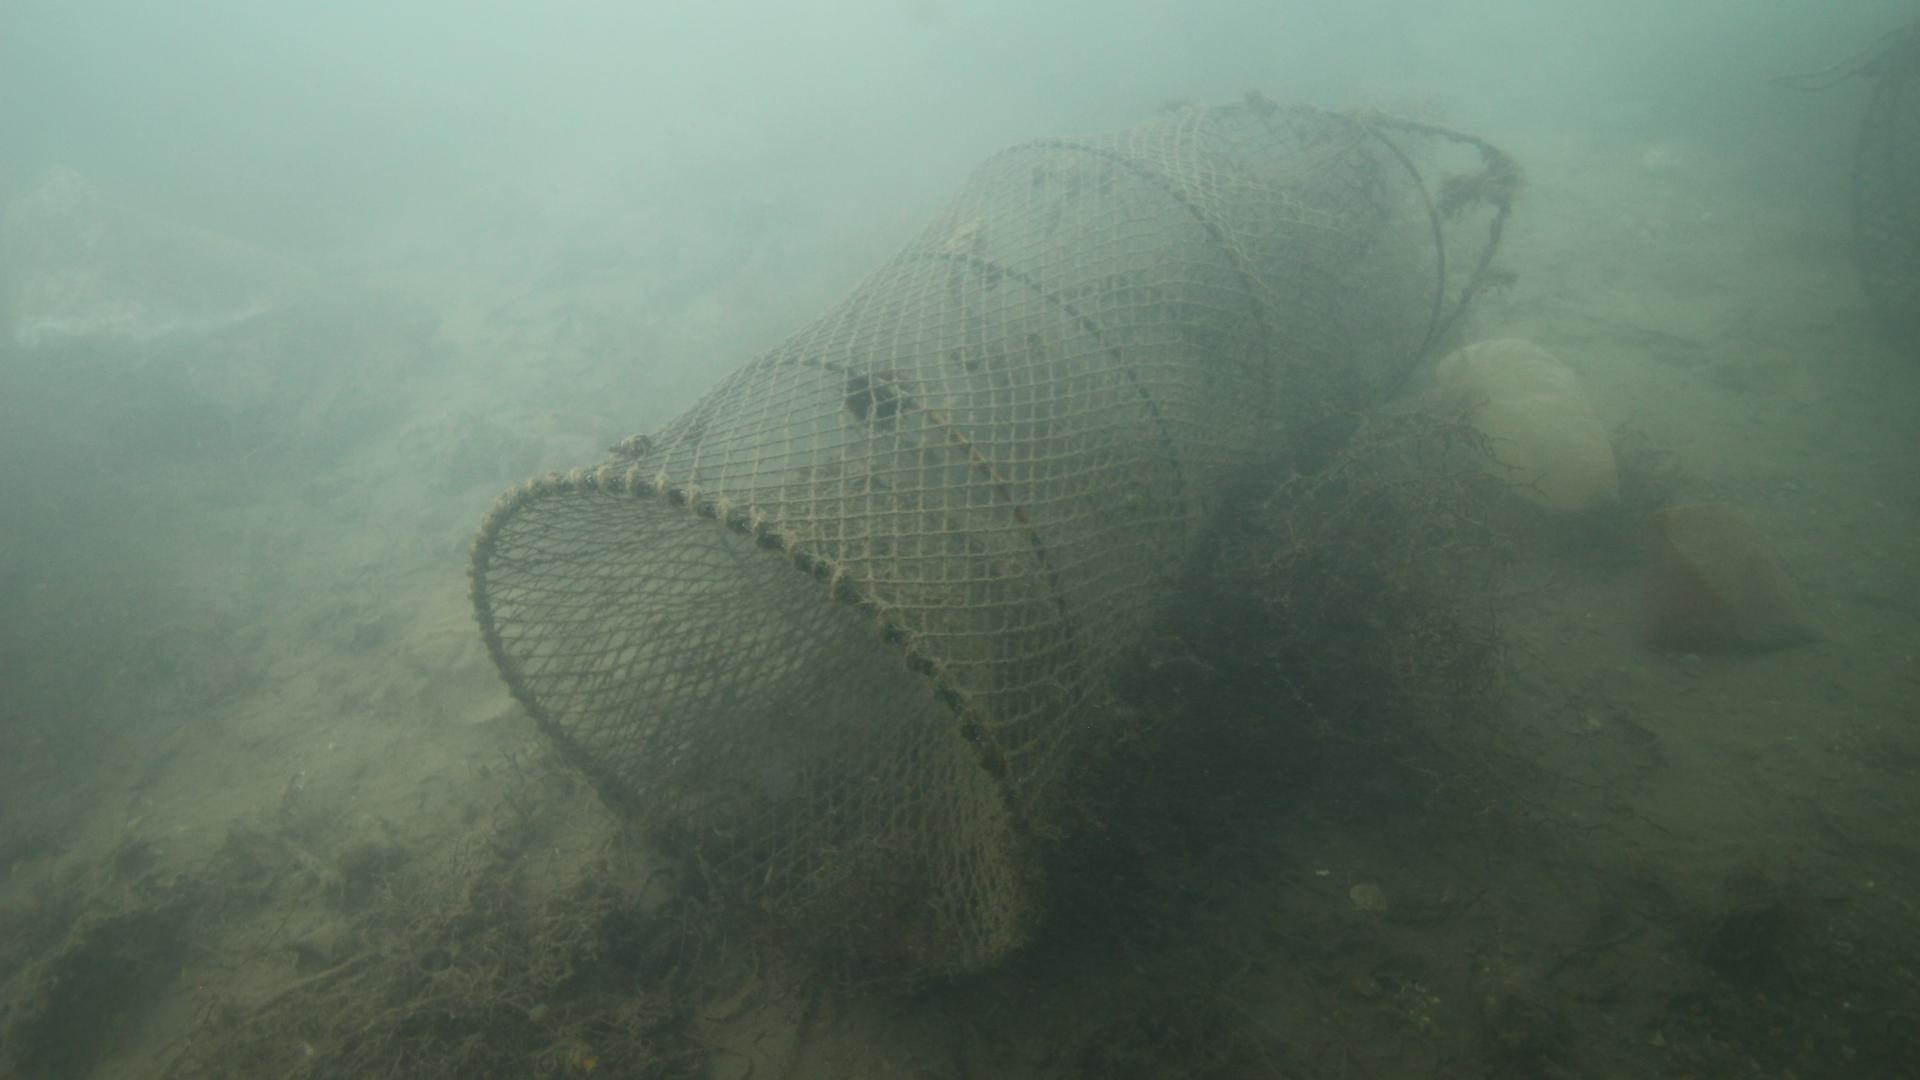spring fish trap: (465, 96, 1518, 985)
